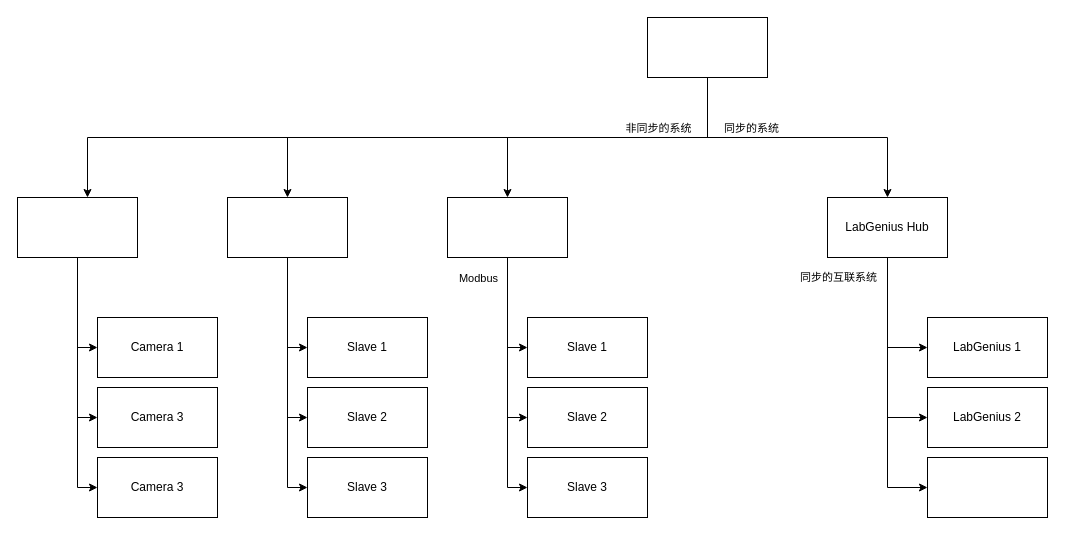
The diagram is 1065 pixels wide and 535 high, and some of its shapes have lost their labels. Here are the shapes that lost their labels. From the top down, the centre of each, then its label:
At (707,47): "DAQ".
At (77,227): "DirectX".
At (287,227): "Can总线".
At (507,227): "Modbus Master".
At (987,487): "LabGenius 3".
